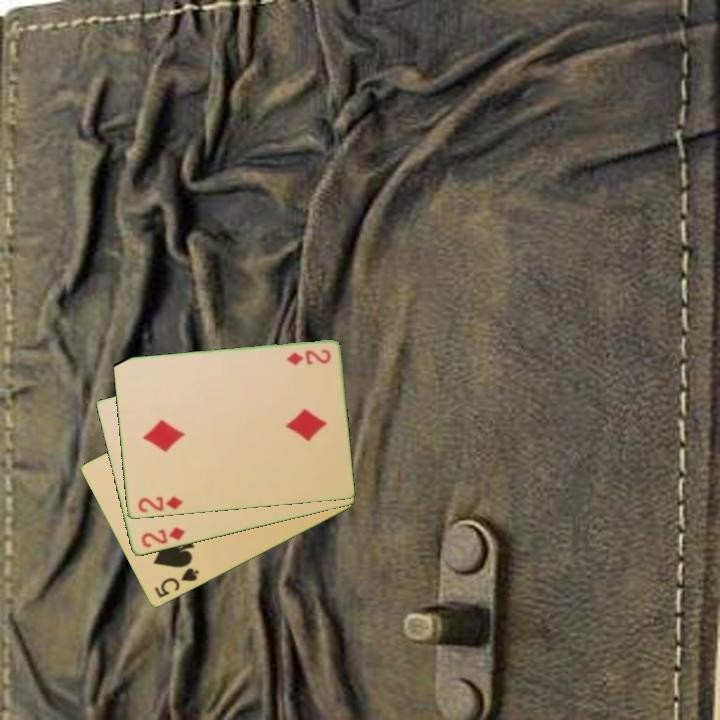2d: (137, 524, 188, 551), (134, 493, 186, 516), (283, 346, 333, 368)
5s: (151, 565, 202, 601)
